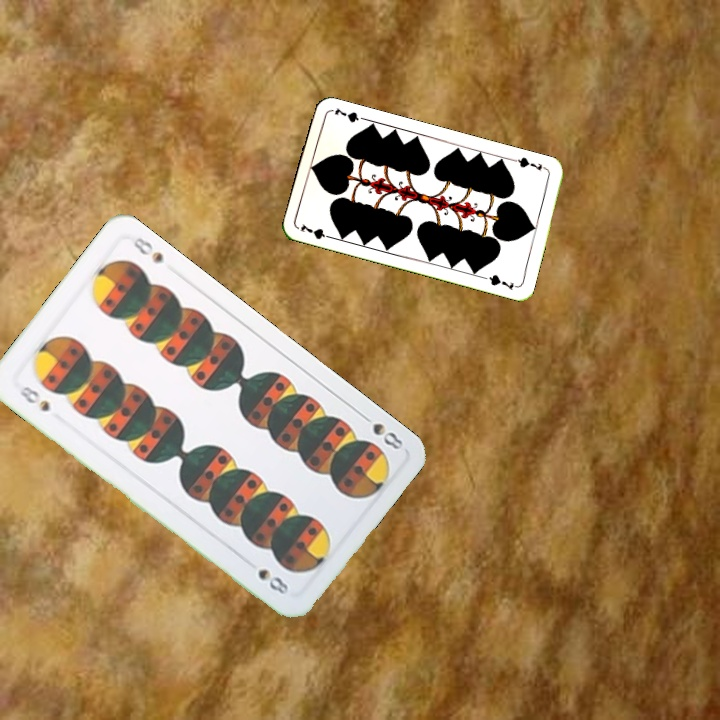G7: (296, 220, 336, 242), (510, 153, 550, 174)
S8: (356, 409, 406, 453), (14, 381, 53, 414)
